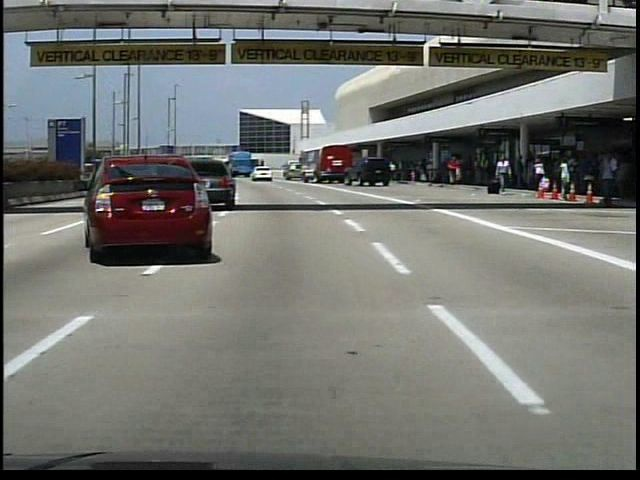person: (596, 155, 615, 206), (493, 154, 513, 196), (445, 156, 462, 186), (387, 162, 399, 184)
